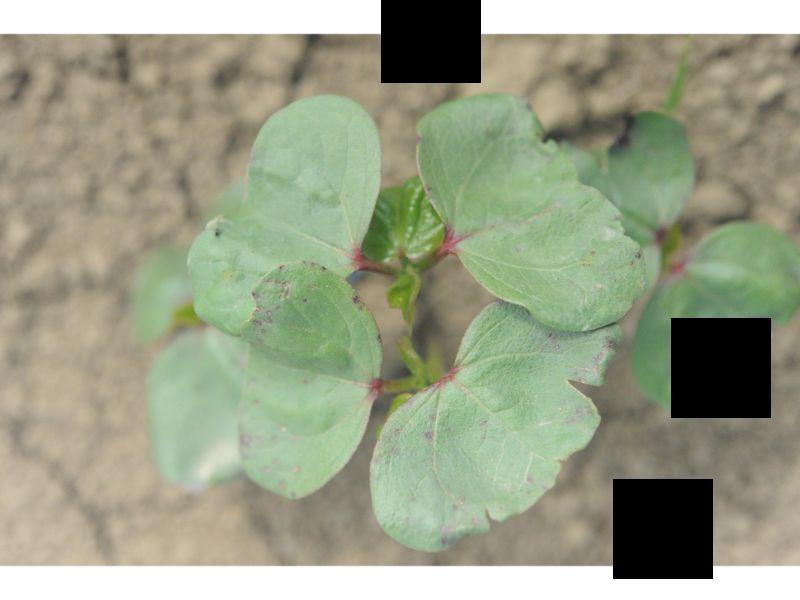cotton: (150, 96, 798, 549)
